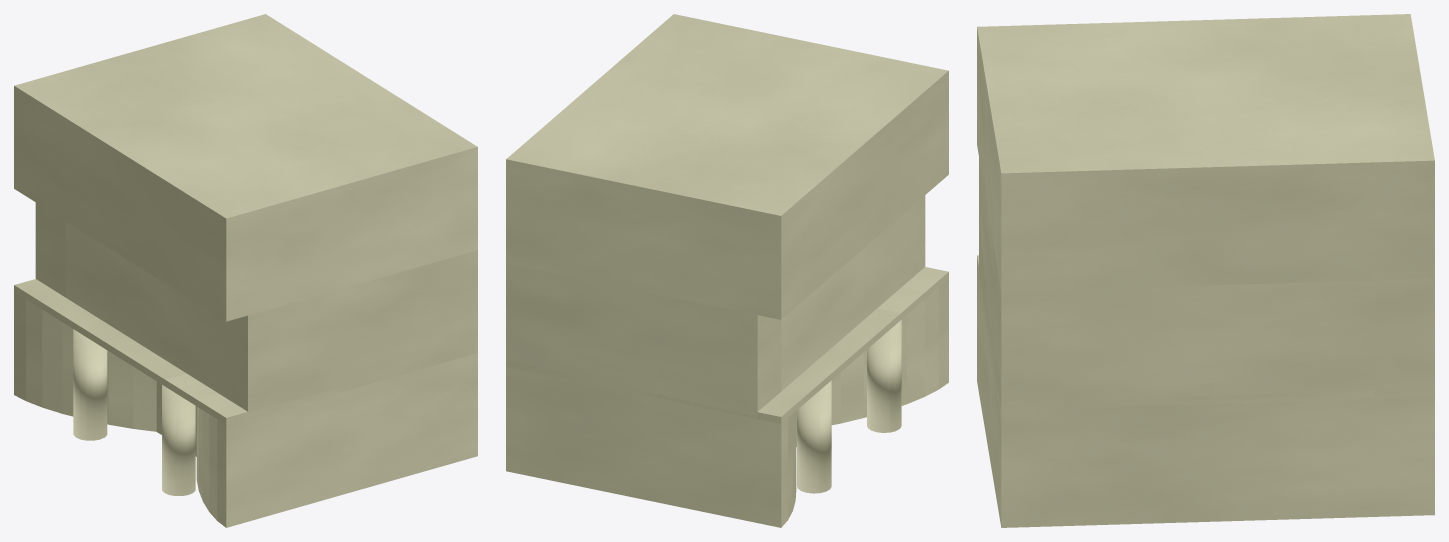
The model's file is OSDEViejo.gltf.
3 renders of one model, left to right at view 1: azimuth 30°, elevation 25°; view 2: azimuth 150°, elevation 25°; view 3: azimuth 270°, elevation 25°, orthographic. The views are drawn at different scales.
Visible parts, largest first — view 1: OSDEViejo; view 2: OSDEViejo; view 3: OSDEViejo.
Boxes of the visible parts, bbox=[...] form: OSDEViejo: bbox=[14, 14, 477, 527]; OSDEViejo: bbox=[506, 14, 948, 527]; OSDEViejo: bbox=[977, 14, 1434, 527].
Size of the model in its own units: 0.6494 by 0.6818 by 0.7882.
Materials: 1 (1 with a texture image).
